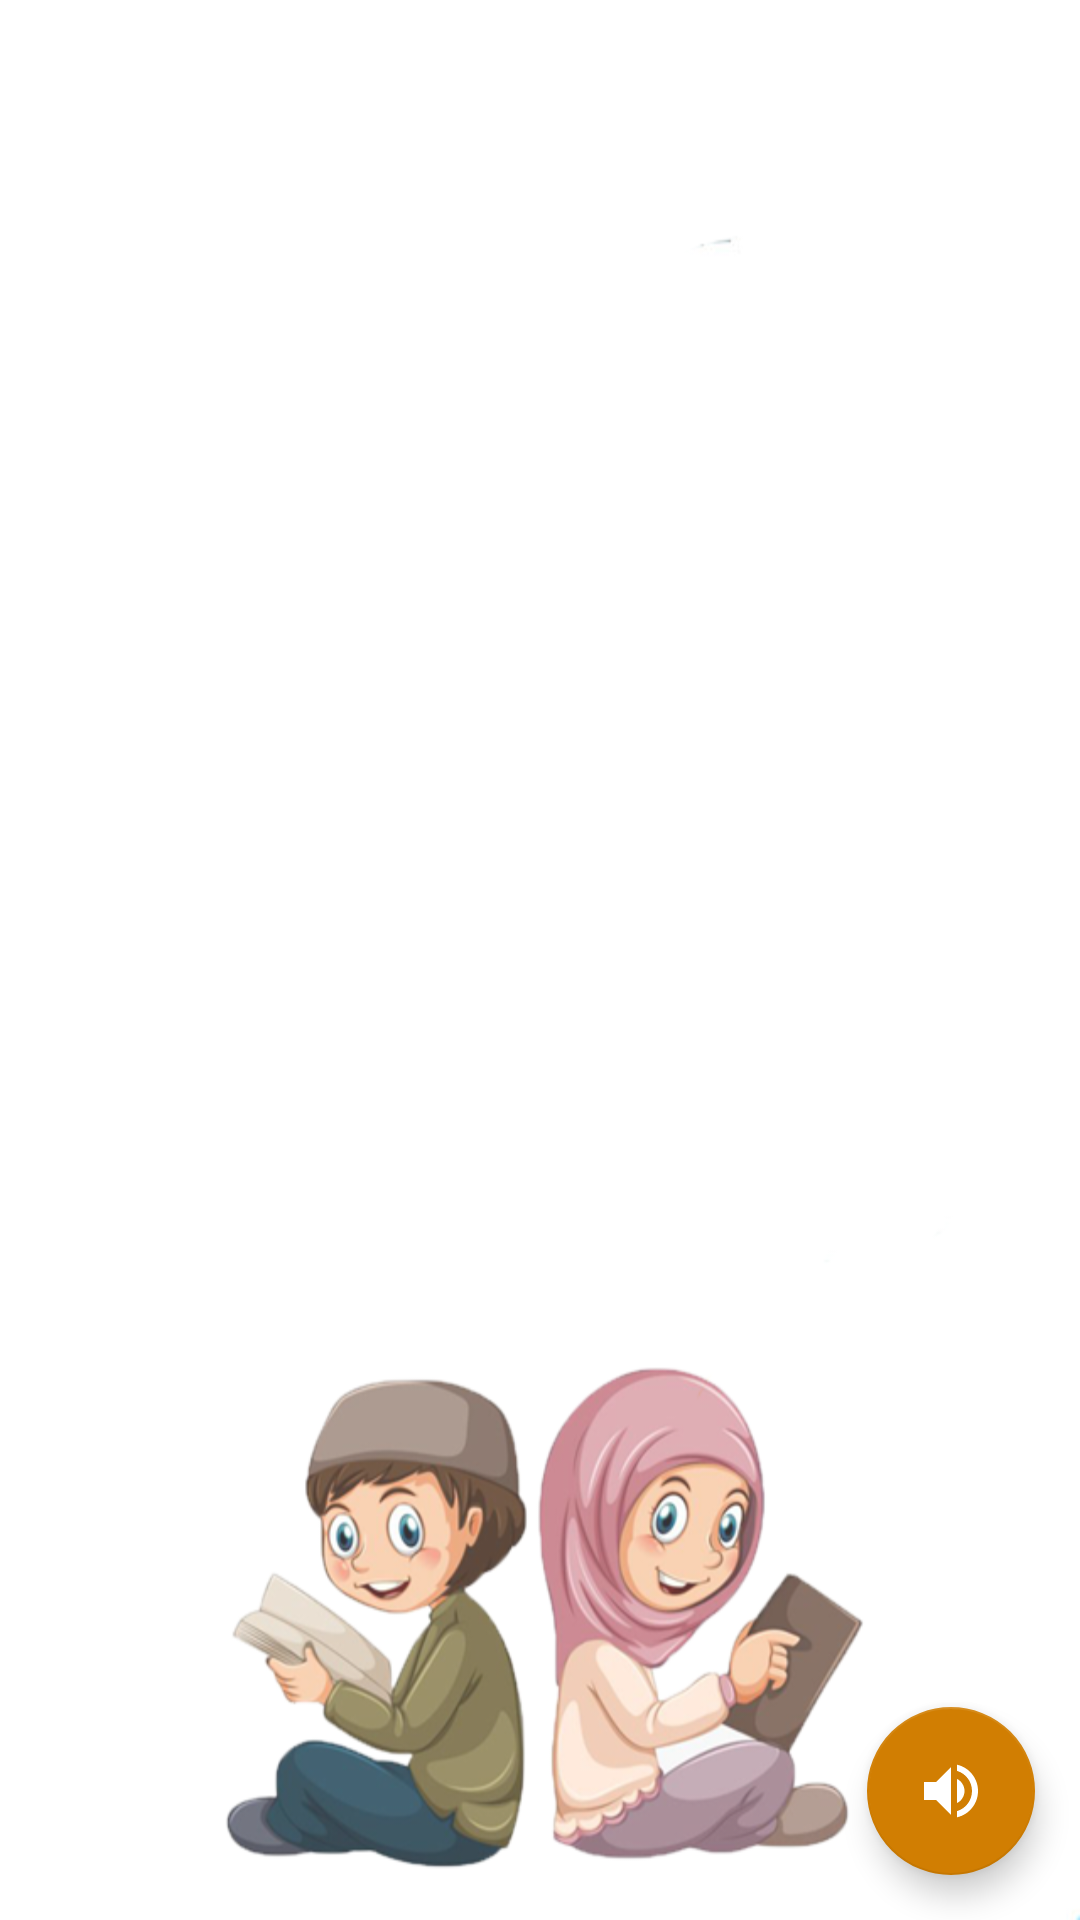

Point at icon controls on the screen. Image size 1080x1920, points as [x,y].
volume up: [951,1791]
